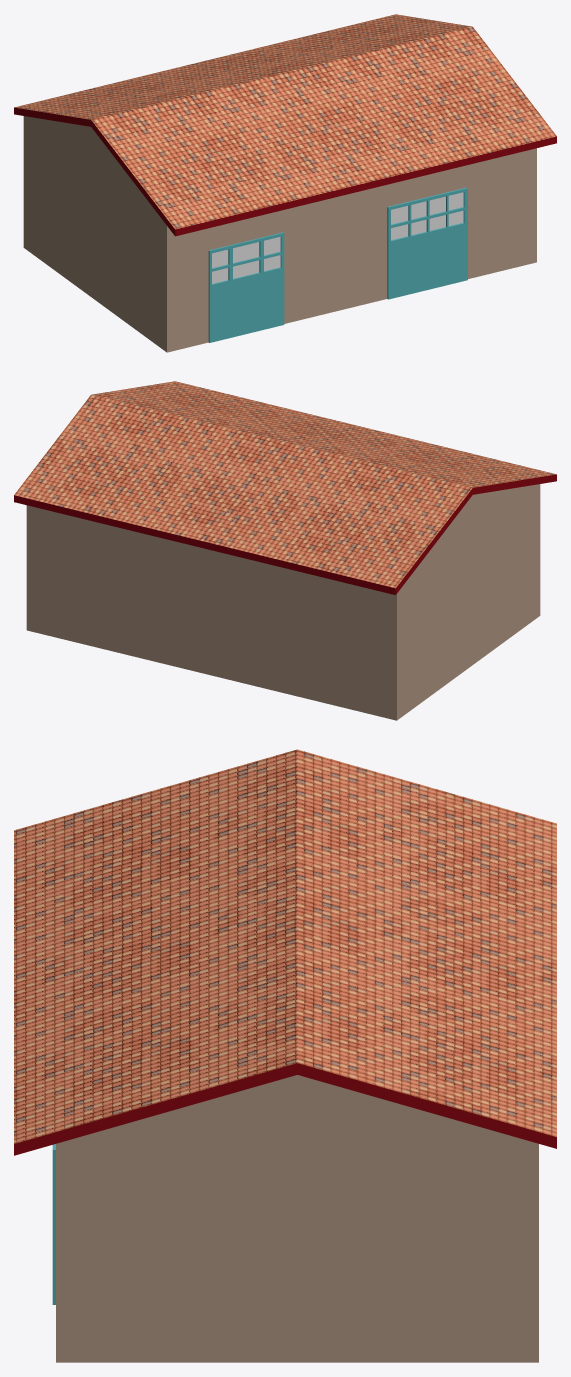
File: building.fbx
The picture shows the model from 3 angles, top to bottom: view 1: azimuth 30°, elevation 25°; view 2: azimuth 150°, elevation 25°; view 3: azimuth 270°, elevation 25°; orthographic projection. The views are drawn at different scales.
Parts seen in each view (by area): view 1: Cube; view 2: Cube; view 3: Cube.
Boxes of the visible parts, x1,y1,x2,y2 form: Cube: [14, 14, 556, 352]; Cube: [14, 381, 556, 720]; Cube: [14, 749, 556, 1362].
Bounding box in the file's own units: 1670 × 758 × 1221.
Materials: 5 (1 with a texture image).
